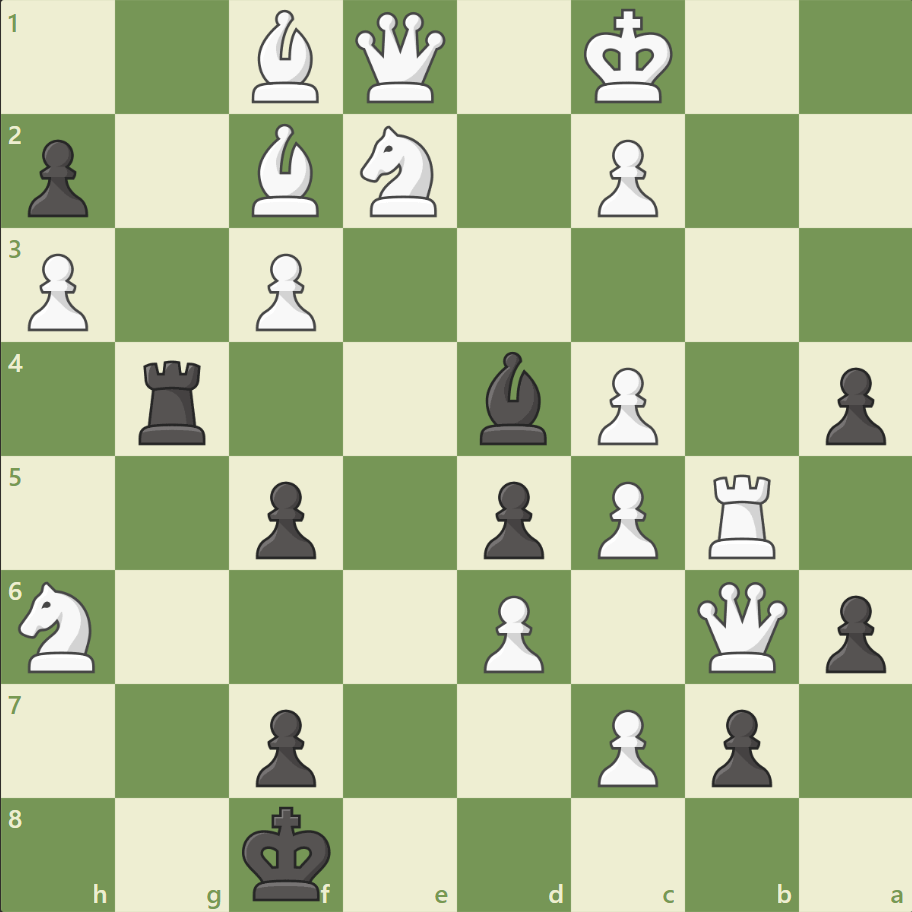B: (244, 6, 328, 109), (244, 120, 328, 222)
K: (579, 4, 679, 112)
N: (351, 121, 449, 223), (11, 575, 108, 677)
P: (474, 586, 549, 677), (247, 246, 322, 337), (20, 246, 95, 337), (588, 700, 662, 791), (588, 473, 662, 564), (588, 359, 662, 450), (588, 132, 662, 223)
Q: (691, 576, 790, 676), (351, 9, 450, 108)
R: (700, 466, 783, 563)
b: (471, 347, 555, 449)
k: (238, 798, 338, 906)
p: (701, 700, 776, 791), (247, 700, 322, 791), (474, 473, 549, 564), (247, 473, 322, 564), (20, 132, 95, 223), (815, 586, 889, 677), (815, 359, 889, 450)
r: (133, 352, 215, 449)
